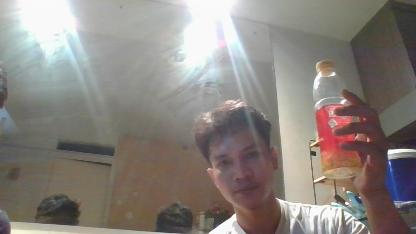Plastic Bottle: (313, 60, 363, 183)
